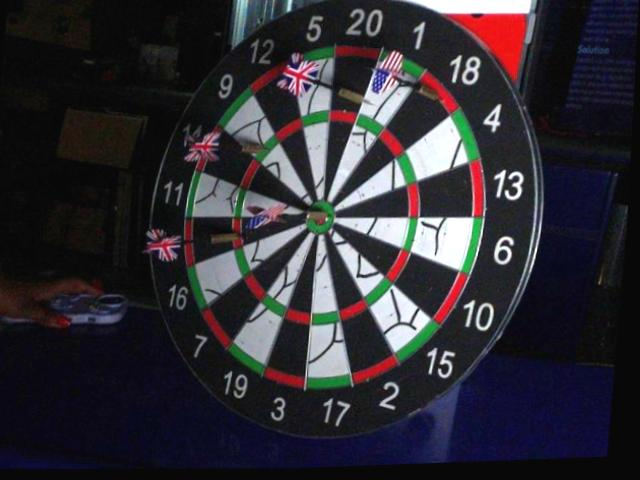bullseye: (304, 202, 336, 234)
double_18: (418, 74, 459, 115)
single_1: (363, 78, 409, 125)
triple_8: (231, 218, 242, 249)
triple_9: (255, 135, 278, 163)
